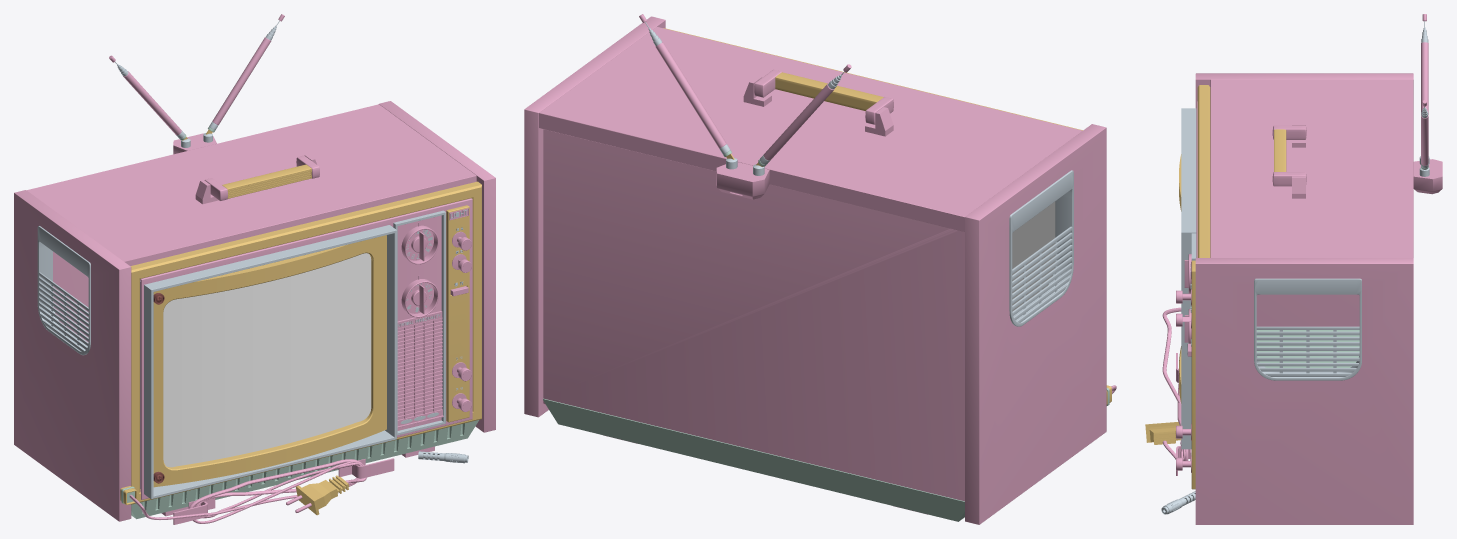
The model's file is 电视视.fbx.
3 views of the same model, side by side, from view 1: azimuth 30°, elevation 25°; view 2: azimuth 150°, elevation 25°; view 3: azimuth 270°, elevation 25° (orthographic). The views are drawn at different scales.
Parts seen in each view (by area): view 1: TV; view 2: TV; view 3: TV.
Part boxes in pixels (bbox=[...]): TV: bbox=[14, 14, 495, 524]; TV: bbox=[524, 14, 1116, 524]; TV: bbox=[1145, 14, 1442, 524].
Bounding box in the file's own units: 315 × 301 × 206.
